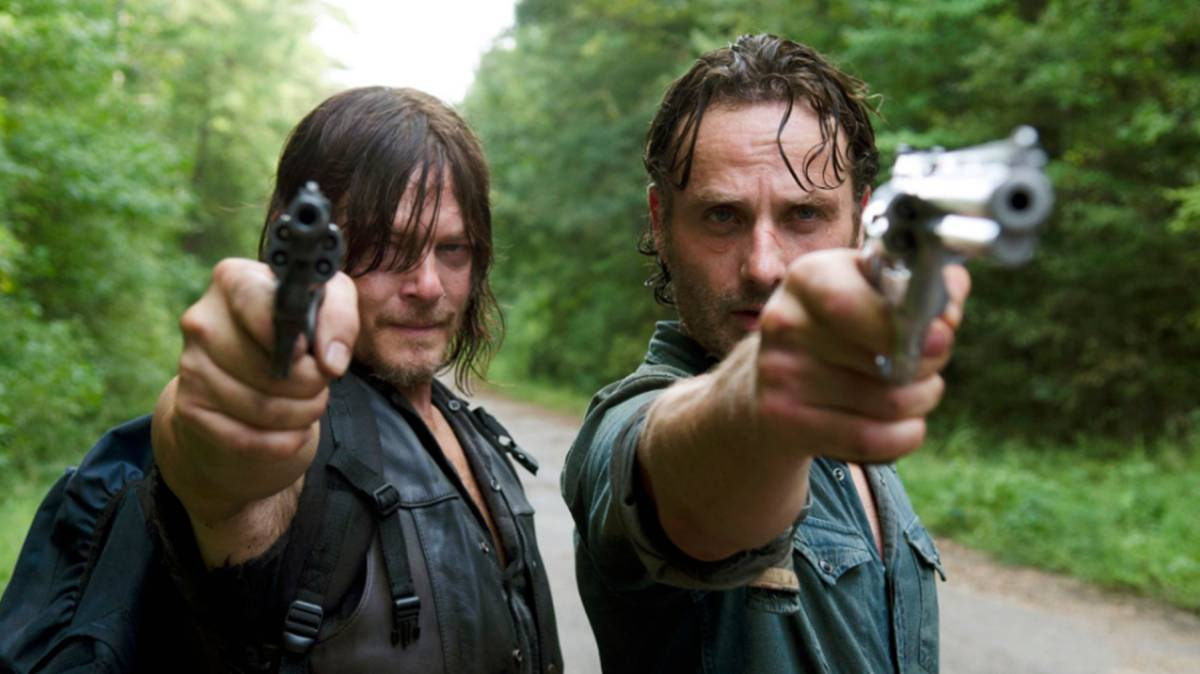Revolver: (793, 129, 1136, 383), (226, 151, 384, 376)
